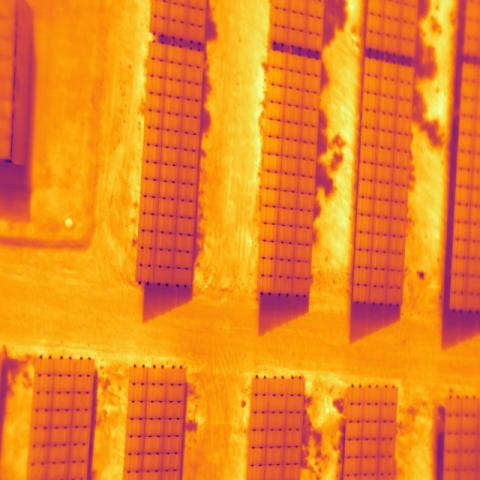fault: (257, 49, 288, 297)
